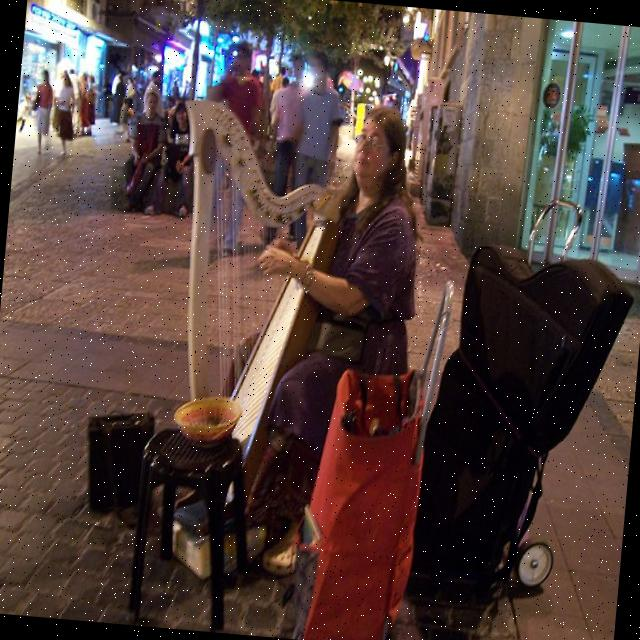harp: (143, 97, 354, 586)
